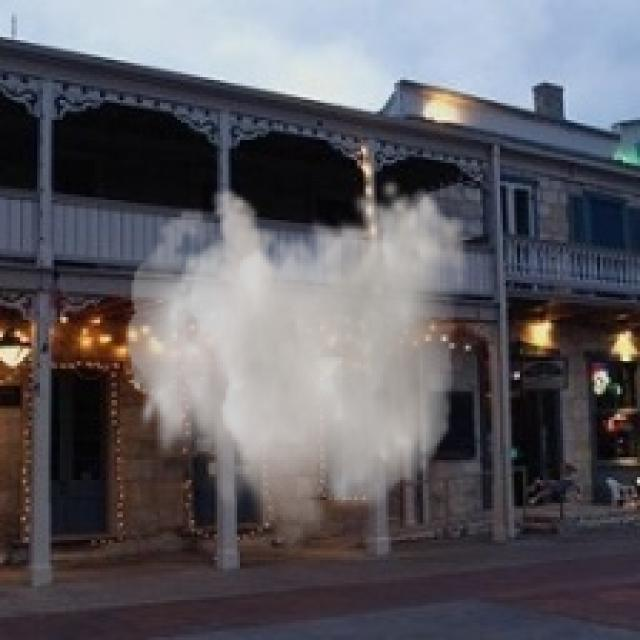Smoke: (126, 175, 468, 560)
